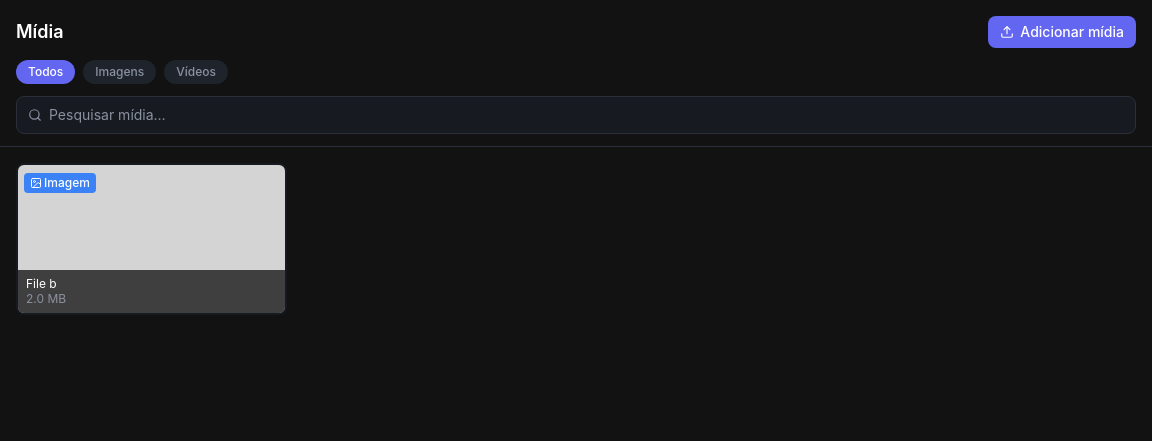
it: MediaLibrary › closing the detail panel hides it
Click the button with test id "media-card-b".
click(152, 239)  # box [16,163,287,315]
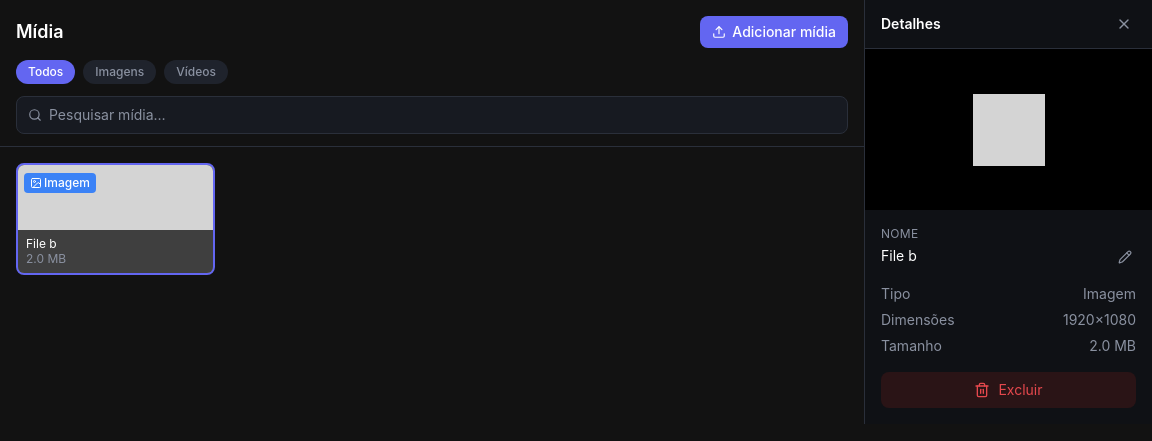
Check: the button with test id "detail-close" is shown
Click the button with test id "detail-close".
click(1124, 24)  # box [1112,12,1136,36]
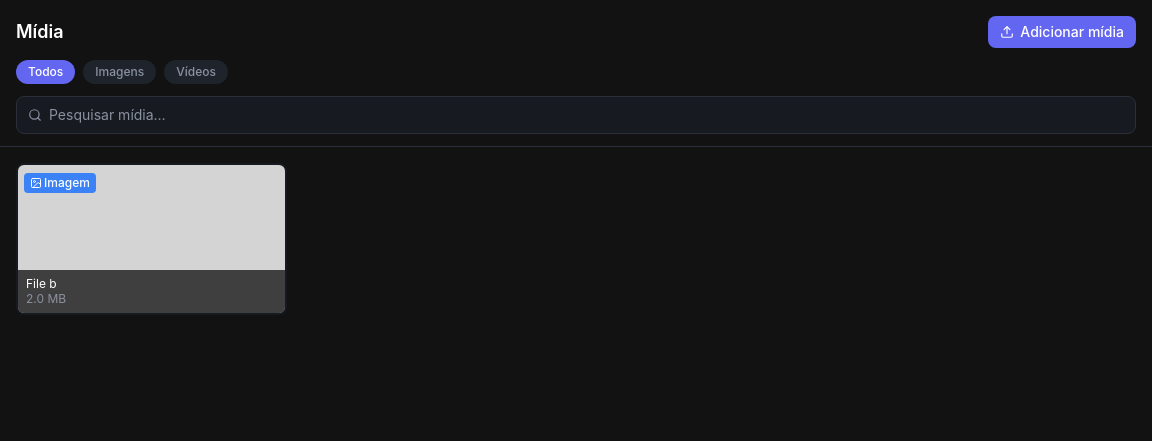
Check: the button with test id "detail-close" is gone
